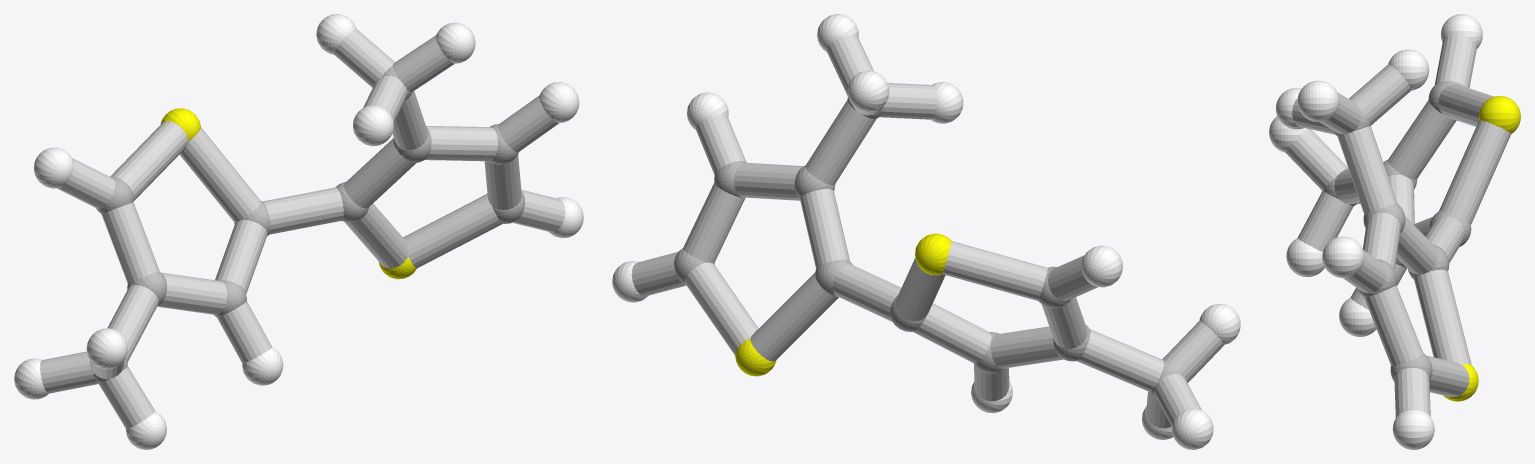
File: Methylthiophene_Phi_25_Theta_60_Methylthiophene.glb
3 renders of one model, left to right at view 1: azimuth 30°, elevation 25°; view 2: azimuth 150°, elevation 25°; view 3: azimuth 270°, elevation 25°, orthographic.
Parts seen in each view (by area): view 1: grp7965, grp3621, grp1, grp7241; view 2: grp7965, grp3621, grp1, grp7241; view 3: grp7965, grp3621, grp1, grp7241.
Boxes of the visible parts, x1,y1,x2,y2 form: grp7965: (40, 29, 565, 428); grp3621: (14, 14, 583, 449); grp1: (93, 66, 524, 383); grp7241: (160, 108, 416, 279); grp7965: (631, 35, 1224, 428); grp3621: (612, 14, 1240, 449); grp1: (674, 96, 1179, 398); grp7241: (735, 233, 951, 376); grp7965: (1285, 35, 1511, 417); grp3621: (1269, 14, 1482, 449); grp1: (1323, 81, 1471, 381); grp7241: (1443, 96, 1520, 401).
Size of the model in its own units: 9.66 by 5.5 by 3.6.
